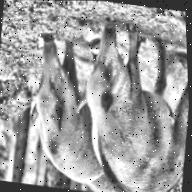boar: (66, 17, 192, 192)
